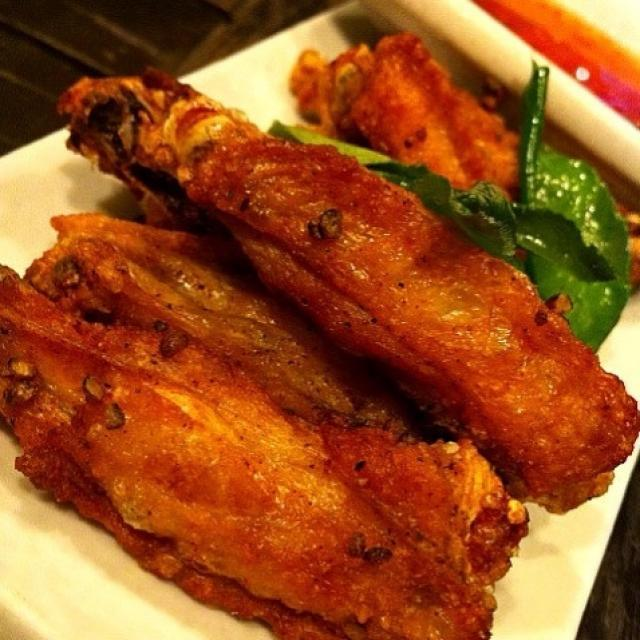Deep fried chicken wing: (12, 43, 629, 627)
